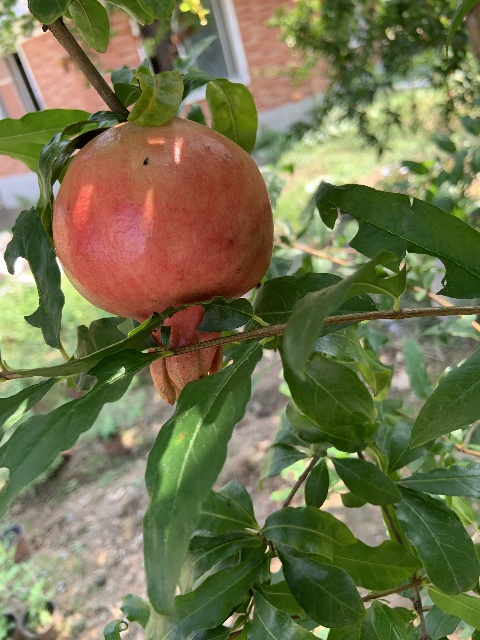ripe: (52, 115, 273, 406)
